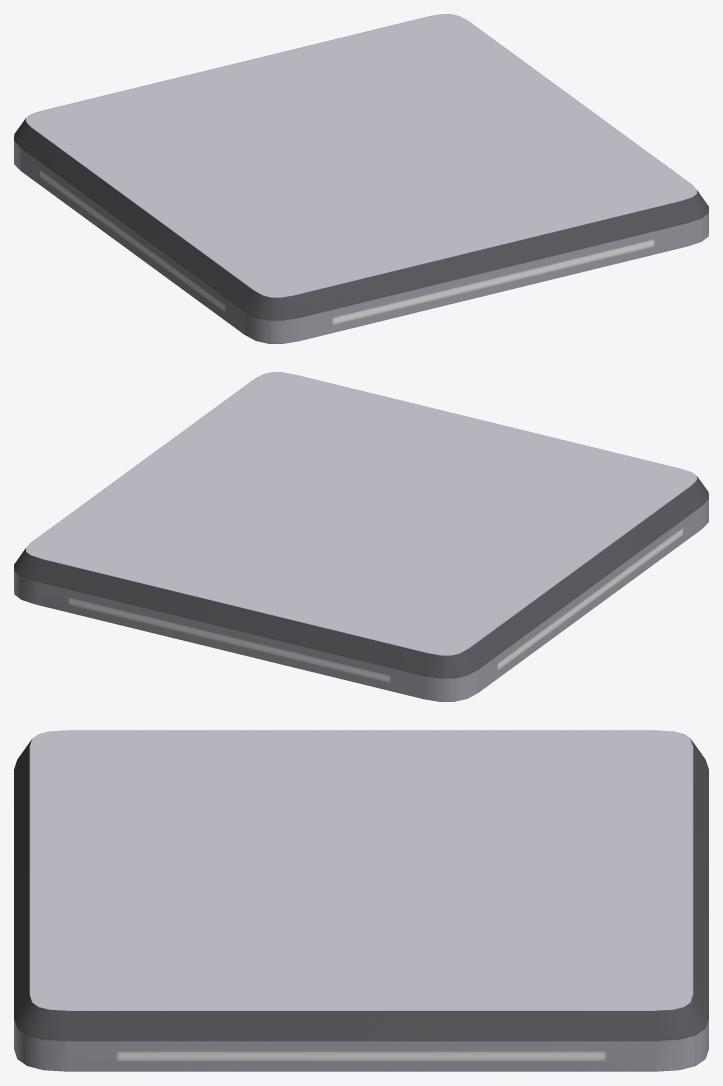
Rendered from Podium_03.FBX.
The picture shows the model from 3 angles, top to bottom: view 1: azimuth 30°, elevation 25°; view 2: azimuth 150°, elevation 25°; view 3: azimuth 270°, elevation 25°; orthographic projection. The views are drawn at different scales.
Visible parts, largest first — view 1: Podium_03; view 2: Podium_03; view 3: Podium_03.
Part boxes in pixels (left/top/right/bottom): Podium_03: left=14, top=14, right=708, bottom=343; Podium_03: left=14, top=372, right=708, bottom=701; Podium_03: left=14, top=730, right=708, bottom=1071.
Bounding box in the file's own units: 4 × 0.3441 × 4.
Materials: 1 (1 with a texture image).
